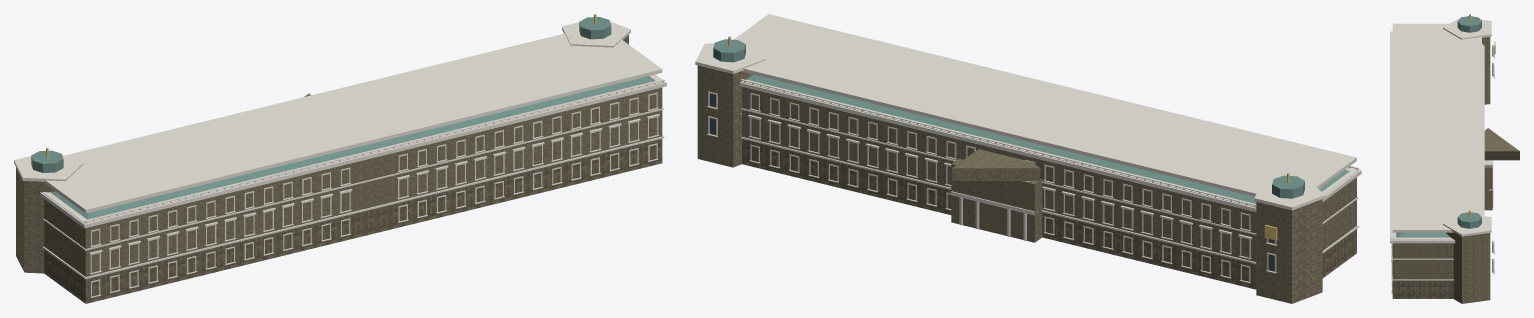
File: palace.glb
The picture shows the model from 3 angles, left to right: view 1: azimuth 30°, elevation 25°; view 2: azimuth 150°, elevation 25°; view 3: azimuth 270°, elevation 25°; orthographic projection. The views are drawn at different scales.
Parts seen in each view (by area): view 1: band.003, floor2, ground, floor3, roof, band.002, tower, parapet_base, band, band.001, railcap_n, tower_cornice (+3 smaller); view 2: band.003, floor2, ground, floor3, tower, portico, tower.001, roof, band.002, ped, parapet_base, band (+6 smaller); view 3: band.003, tower.001, floor2, ground, floor3, ped, band.002, tower_cornice.001, tower_cornice, tower, railcap_n, portico (+7 smaller).
Boxes of the visible parts, bbox=[...] form: band.003: bbox=[44, 33, 662, 213]; floor2: bbox=[44, 110, 662, 276]; ground: bbox=[44, 138, 662, 303]; floor3: bbox=[44, 87, 662, 248]; roof: bbox=[50, 76, 655, 219]; band.002: bbox=[40, 74, 666, 228]; tower: bbox=[16, 167, 55, 273]; parapet_base: bbox=[42, 74, 664, 223]; band: bbox=[42, 135, 664, 279]; band.001: bbox=[43, 107, 663, 250]; railcap_n: bbox=[84, 79, 664, 222]; tower_cornice: bbox=[14, 155, 83, 181]; band.003: bbox=[734, 14, 1356, 196]; floor2: bbox=[742, 110, 1356, 261]; ground: bbox=[742, 139, 1356, 289]; floor3: bbox=[742, 87, 1356, 233]; tower: bbox=[1256, 199, 1322, 303]; portico: bbox=[951, 158, 1042, 242]; tower.001: bbox=[697, 65, 752, 167]; roof: bbox=[746, 74, 1349, 203]; band.002: bbox=[739, 82, 1361, 211]; ped: bbox=[952, 149, 1040, 180]; parapet_base: bbox=[741, 79, 1359, 207]; band: bbox=[741, 137, 1358, 264]; band.003: bbox=[1392, 23, 1481, 232]; tower.001: bbox=[1446, 232, 1490, 303]; floor2: bbox=[1392, 260, 1453, 279]; ground: bbox=[1392, 280, 1453, 298]; floor3: bbox=[1392, 243, 1453, 258]; ped: bbox=[1484, 128, 1519, 160]; band.002: bbox=[1390, 32, 1484, 243]; tower_cornice.001: bbox=[1443, 213, 1491, 236]; tower_cornice: bbox=[1443, 17, 1491, 39]; tower: bbox=[1482, 37, 1490, 104]; railcap_n: bbox=[1391, 31, 1392, 238]; portico: bbox=[1484, 165, 1492, 210].
Bounding box in the file's own units: 127 × 22.6 × 31.89.
Materials: 6 (2 with a texture image).
